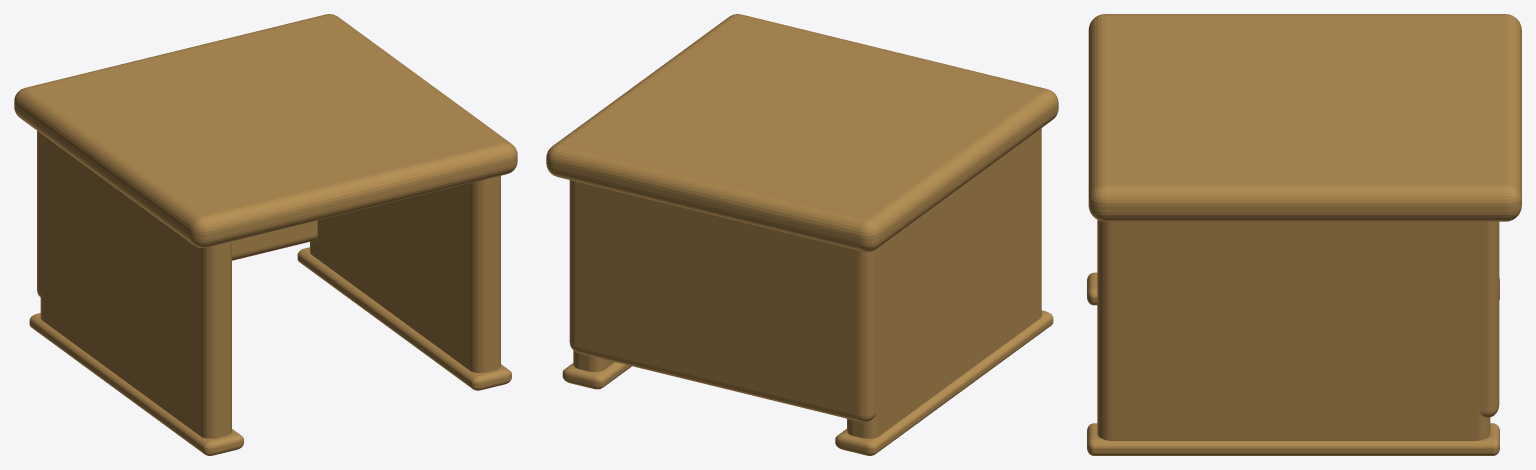
File: desk.glb
The picture shows the model from 3 angles, left to right: view 1: azimuth 30°, elevation 25°; view 2: azimuth 150°, elevation 25°; view 3: azimuth 270°, elevation 25°; orthographic projection. The views are drawn at different scales.
Visible parts, largest first — view 1: Cube, Cube.002, Cube.001, Cube.004, Cube.005, Cube.003; view 2: Cube, Cube.003, Cube.002, Cube.005, Cube.004, Cube.001; view 3: Cube, Cube.001, Cube.004, Cube.003.
Boxes of the visible parts, <box> form: Cube: <box>14,14,517,247</box>; Cube.002: <box>40,134,231,438</box>; Cube.001: <box>310,176,500,372</box>; Cube.004: <box>297,247,511,390</box>; Cube.005: <box>29,313,243,455</box>; Cube.003: <box>37,131,317,297</box>; Cube: <box>546,14,1058,251</box>; Cube.003: <box>569,180,877,422</box>; Cube.002: <box>847,128,1041,438</box>; Cube.005: <box>835,310,1053,455</box>; Cube.004: <box>562,362,631,389</box>; Cube.001: <box>573,350,614,371</box>; Cube: <box>1088,14,1521,221</box>; Cube.001: <box>1097,220,1490,440</box>; Cube.004: <box>1087,423,1499,455</box>; Cube.003: <box>1478,221,1499,417</box>.
Size of the model in its own units: 5.57 by 3.87 by 5.59.
